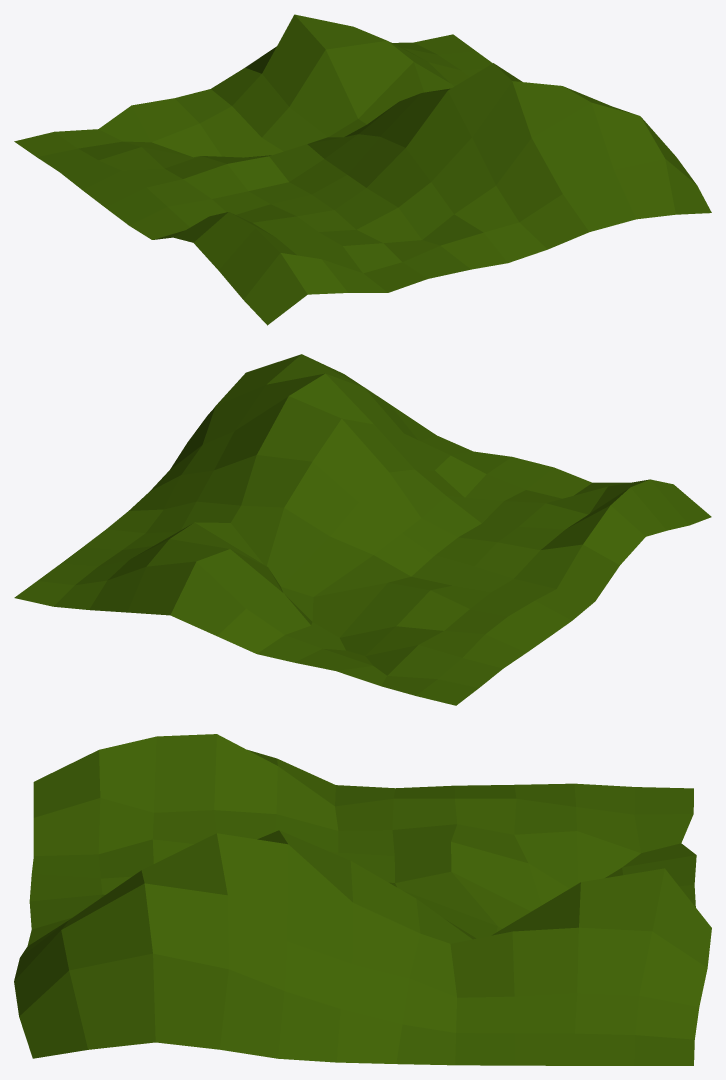
The model's file is grass.glb.
3 views of the same model, one above another, from view 1: azimuth 30°, elevation 25°; view 2: azimuth 150°, elevation 25°; view 3: azimuth 270°, elevation 25° (orthographic). The views are drawn at different scales.
Visible parts, largest first — view 1: Plane; view 2: Plane; view 3: Plane.
Boxes of the visible parts, x1,y1,x2,y2 form: Plane: (14,14,711,325); Plane: (14,354,711,705); Plane: (14,734,711,1065).
Size of the model in its own units: 2.09 by 0.6091 by 2.13.
